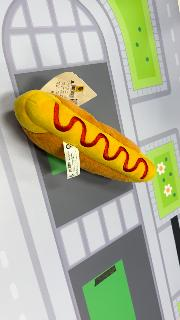hotdog: (14, 88, 156, 184)
